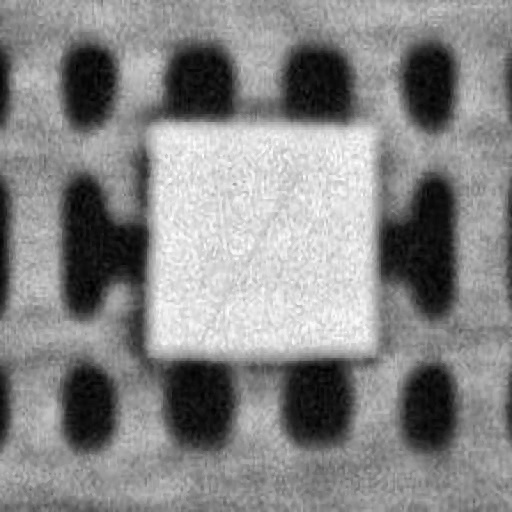DIE_CRACK: (294, 112, 448, 226)
